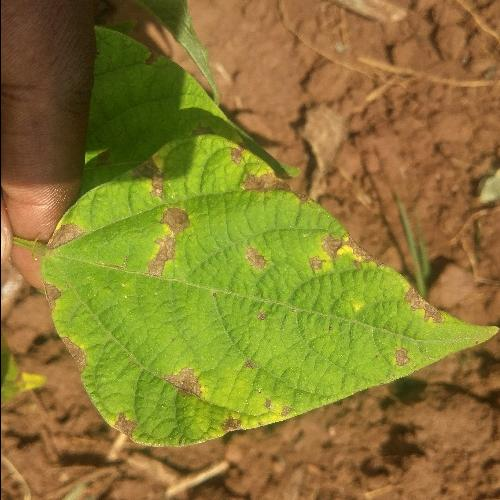hawar: (127, 132, 205, 277), (145, 331, 260, 420), (230, 134, 288, 282), (376, 264, 453, 374), (302, 224, 367, 292)
